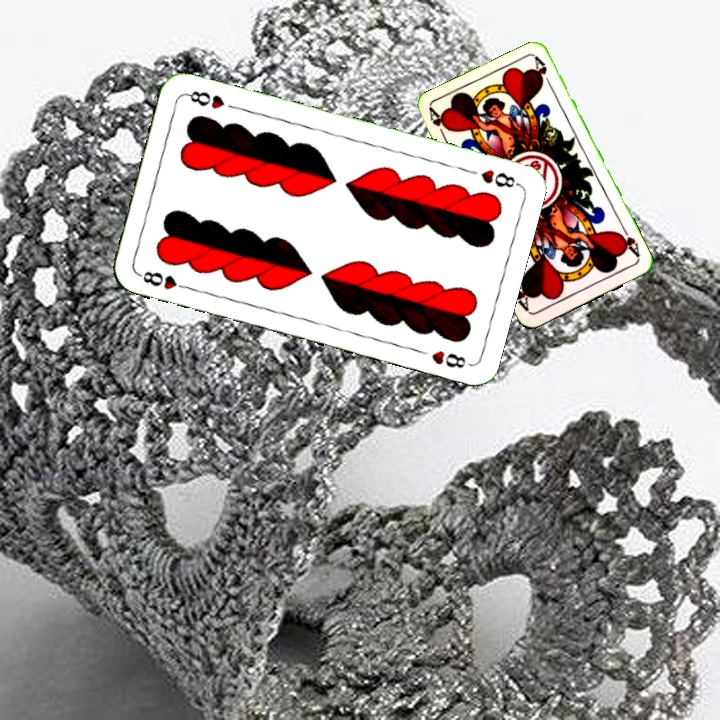H8: (134, 267, 193, 292), (477, 165, 521, 191)
HA: (614, 222, 643, 261), (425, 105, 452, 144)
